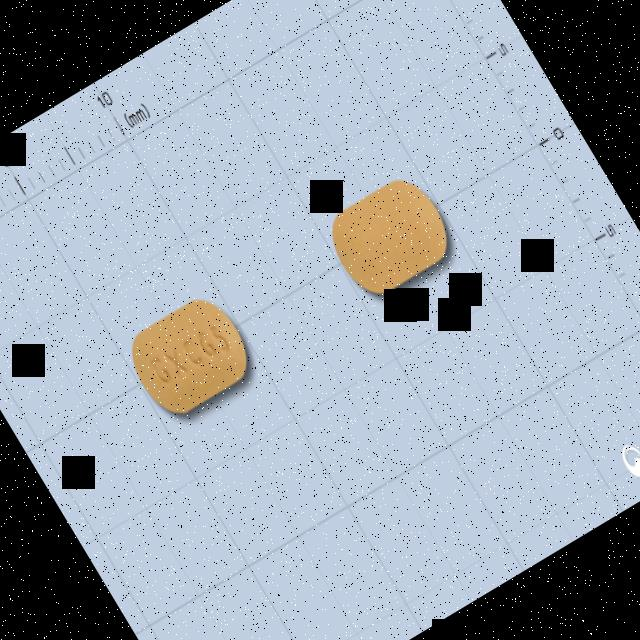Zeffix Tab: (118, 286, 262, 426)
